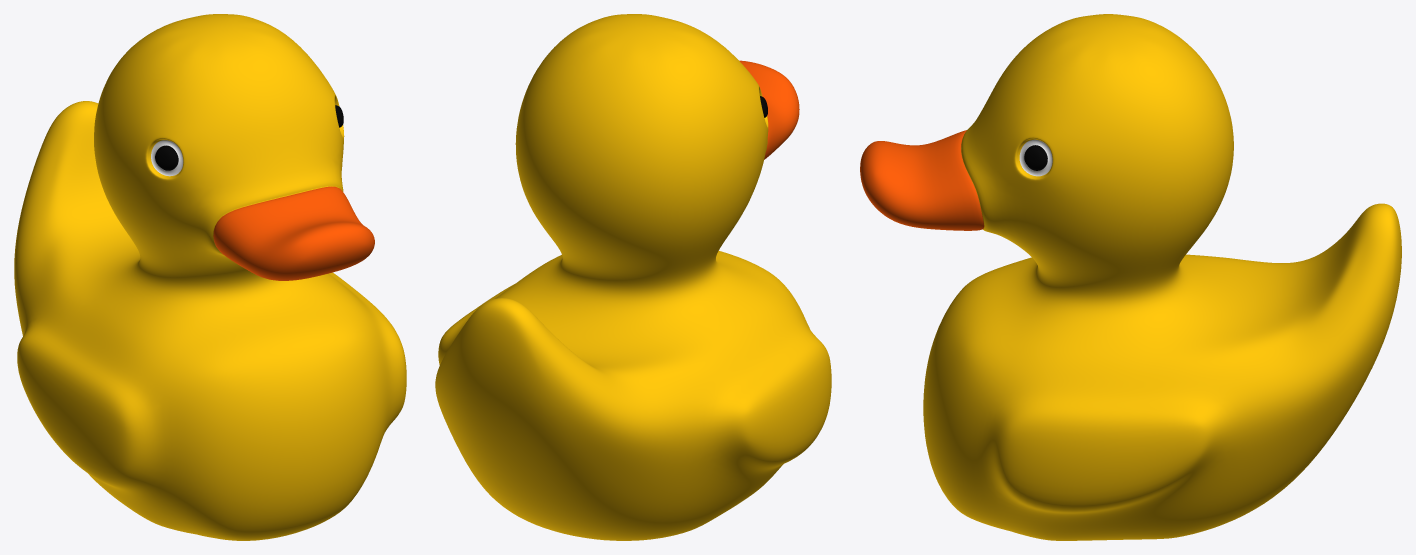
File: duck.fbx
3 views of the same model, side by side, from view 1: azimuth 30°, elevation 25°; view 2: azimuth 150°, elevation 25°; view 3: azimuth 270°, elevation 25° (orthographic). The views are drawn at different scales.
Visible parts, largest first — view 1: Sphere; view 2: Sphere; view 3: Sphere.
Boxes of the visible parts, left/top/right/bottom form: Sphere: left=14, top=14, right=406, bottom=540; Sphere: left=435, top=14, right=831, bottom=540; Sphere: left=860, top=14, right=1401, bottom=540.
Bounding box in the file's own units: 29.8 × 41.99 × 42.93.
